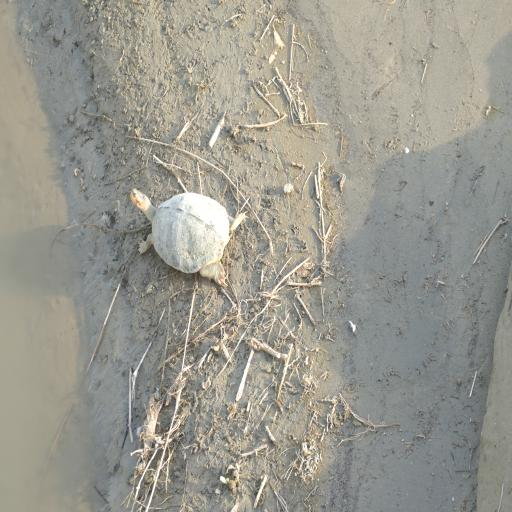turtle: (126, 186, 242, 286)
